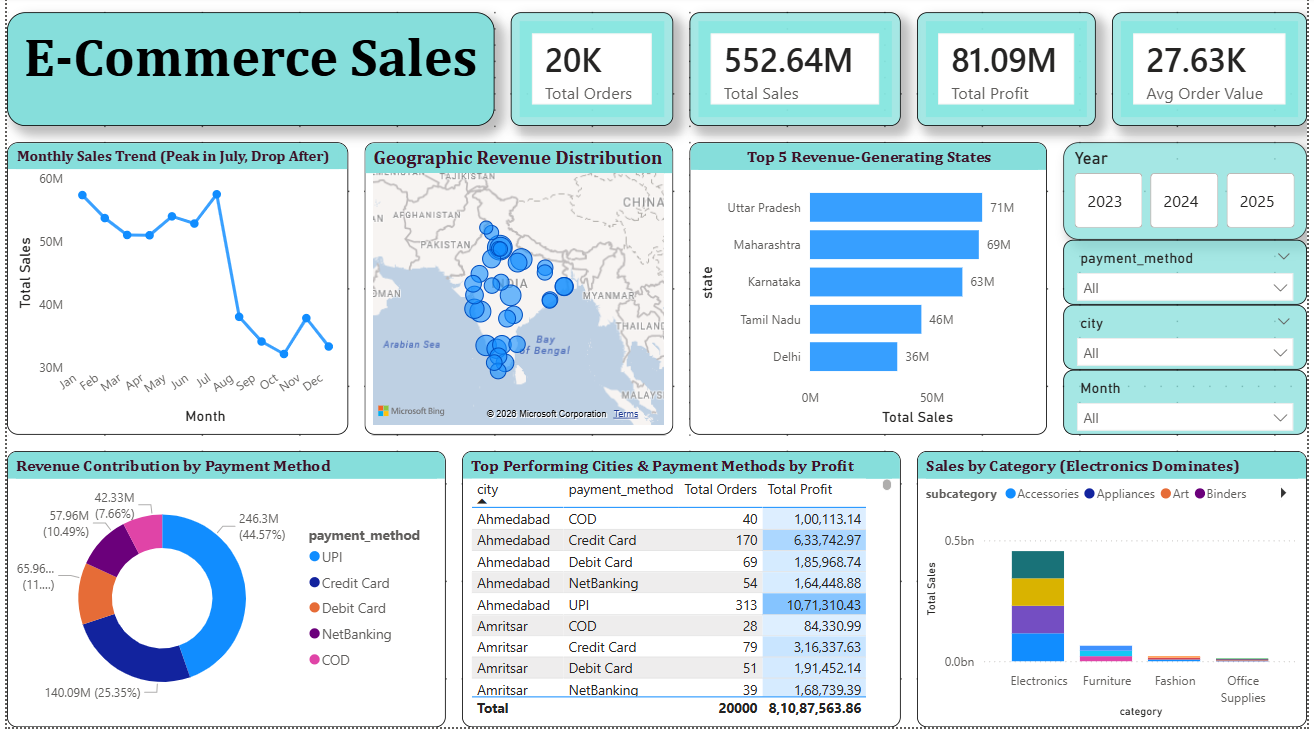

Layout of this report page (visuals, bound fields, positions):
{"tool":"powerbi","page":{"name":"Page 1","canvas":[1280,720],"ordinal":0},"visuals":[{"type":"textbox","box":[0,16,480,112],"z":0},{"type":"advancedSlicerVisual","fields":{"Values":["DateTable.Year"]},"box":[1040,144,240,96],"z":1000},{"type":"cardVisual","fields":{"Data":["E-com order.Total Orders"]},"box":[496,16,160,112],"z":2000},{"type":"cardVisual","fields":{"Data":["E-com order.Total Sales"]},"box":[672,16,208,112],"z":3000},{"type":"cardVisual","fields":{"Data":["E-com order.Total Profit"]},"box":[896,16,176,112],"z":4000},{"type":"cardVisual","fields":{"Data":["E-com order.Avg Order Value"]},"box":[1088,16,192,112],"z":5000},{"type":"lineChart","title":"Monthly Sales Trend (Peak in July, Drop After)","fields":{"Category":["DateTable.Month"],"Y":["E-com order.Total Sales"]},"box":[0,144,336,288],"z":6000},{"type":"columnChart","title":"Sales by Category (Electronics Dominates)","fields":{"Category":["E-com order.category"],"Series":["E-com order.subcategory"],"Y":["E-com order.Total Sales"]},"box":[896,448,384,272],"z":7000},{"type":"tableEx","title":"Top Performing Cities & Payment Methods by Profit","fields":{"Values":["E-com order.city","E-com order.payment_method","E-com order.Total Orders","E-com order.Total Profit"]},"box":[448,448,432,272],"z":8000},{"type":"map","title":"Geographic Revenue Distribution","fields":{"Category":["E-com order.city","E-com order.state"],"Size":["E-com order.Total Sales"]},"box":[352,144,304,288],"z":9000},{"type":"donutChart","title":"Revenue Contribution by Payment Method","fields":{"Y":["E-com order.Total Sales"],"Category":["E-com order.payment_method"]},"box":[0,448,432,272],"z":10000},{"type":"slicer","fields":{"Values":["DateTable.Month"]},"box":[1040,368,240,64],"z":11000},{"type":"slicer","fields":{"Values":["E-com order.city"]},"box":[1040,304,240,64],"z":12000},{"type":"clusteredBarChart","title":"Top 5 Revenue-Generating States","fields":{"Category":["E-com order.state"],"Y":["E-com order.Total Sales"]},"box":[672,144,352,288],"z":13000},{"type":"slicer","fields":{"Values":["E-com order.payment_method"]},"box":[1040,240,240,64],"z":14000}]}

Visuals, with their boxes in screenshot pixels (x1, y1, x2, y2), scaled from the page's 1280x720 canvas onto the 1314x736 screenshot:
textbox: 0:16:493:131
advancedSlicerVisual - DateTable.Year: 1068:147:1313:245
cardVisual - E-com order.Total Orders: 509:16:673:131
cardVisual - E-com order.Total Sales: 690:16:903:131
cardVisual - E-com order.Total Profit: 920:16:1100:131
cardVisual - E-com order.Avg Order Value: 1117:16:1313:131
"Monthly Sales Trend (Peak in July, Drop After)" lineChart: 0:147:345:442
"Sales by Category (Electronics Dominates)" columnChart: 920:458:1313:735
"Top Performing Cities & Payment Methods by Profit" tableEx: 460:458:903:735
"Geographic Revenue Distribution" map: 361:147:673:442
"Revenue Contribution by Payment Method" donutChart: 0:458:443:735
slicer - DateTable.Month: 1068:376:1313:442
slicer - E-com order.city: 1068:311:1313:376
"Top 5 Revenue-Generating States" clusteredBarChart: 690:147:1051:442
slicer - E-com order.payment_method: 1068:245:1313:311
